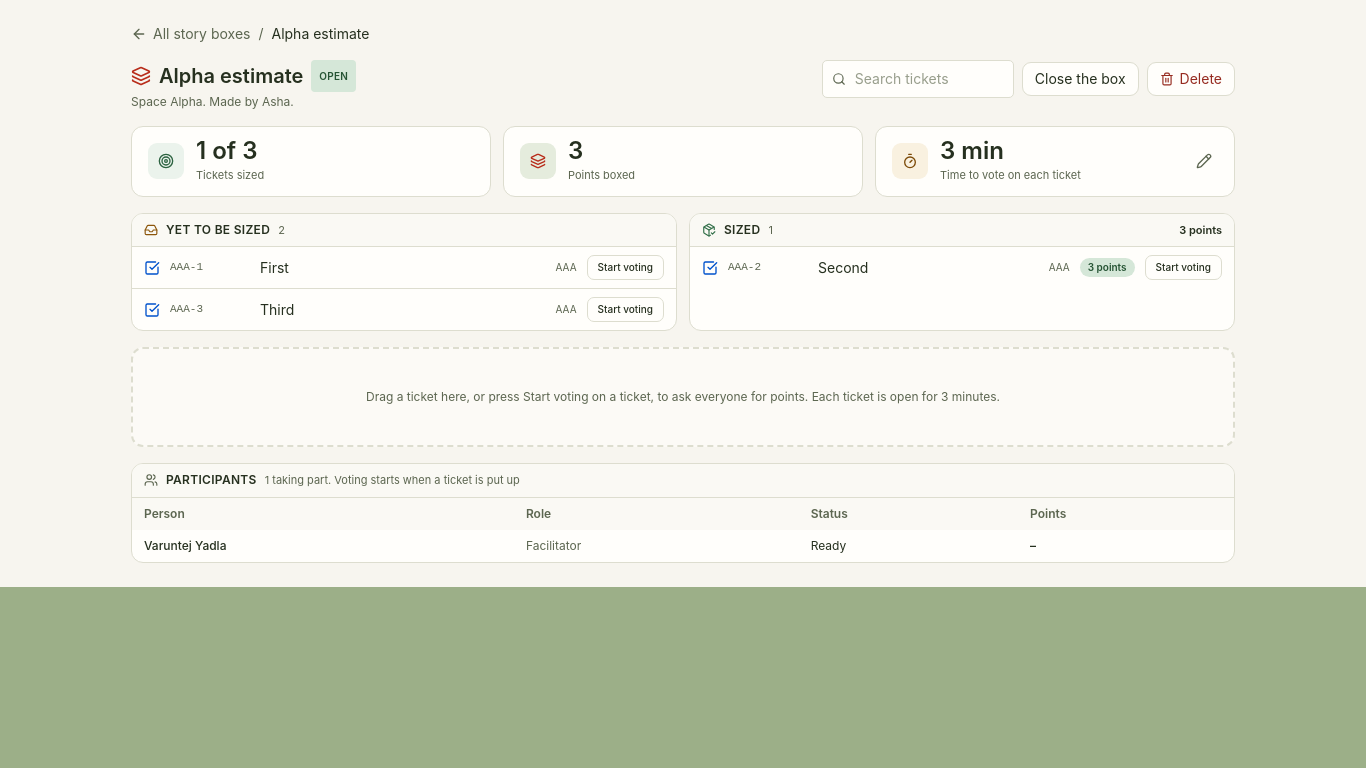
the time to vote › is shown, and a small pencil changes it for the next tickets
Step 1. Click the button named "Change the time to vote" → [1204, 161], box x1=1190 y1=147 x2=1218 y2=175
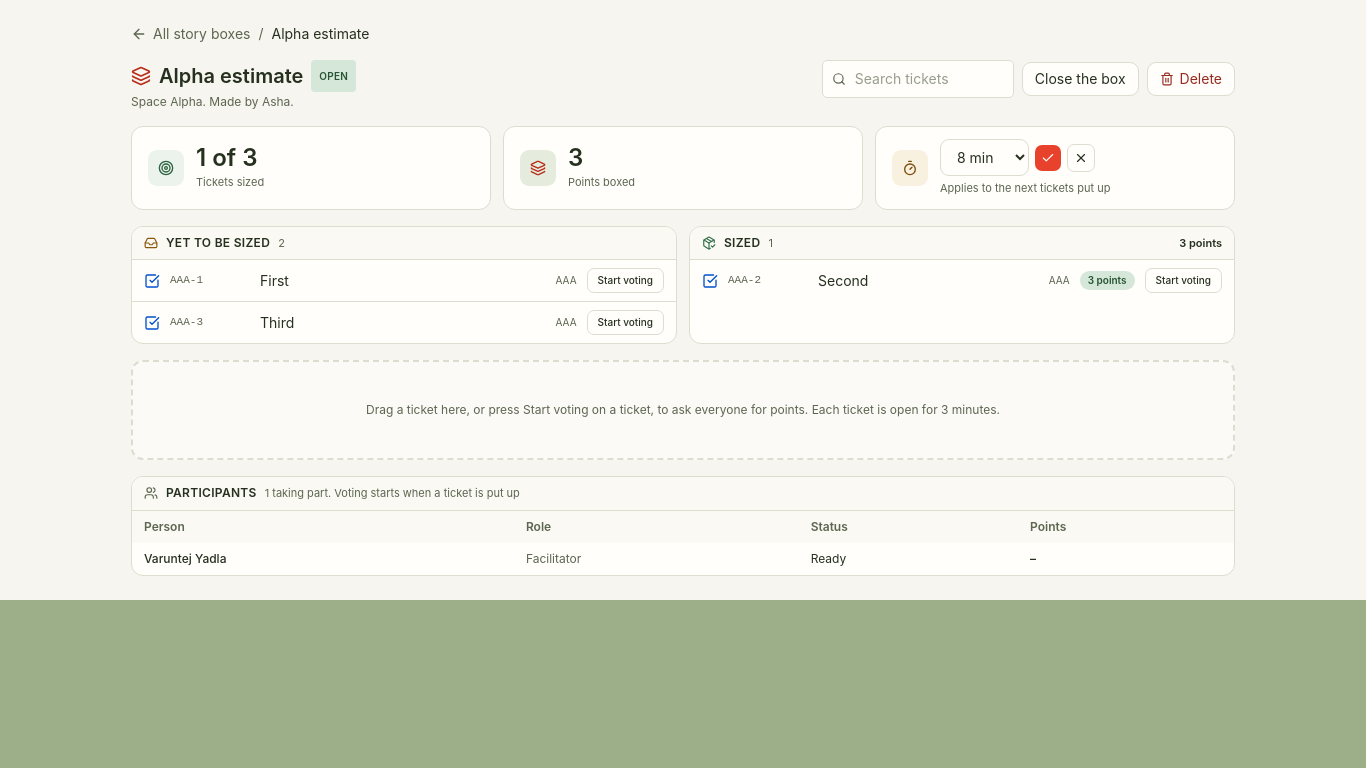
Step 2. Select "8 min" in the dropdown named "Time to vote on each ticket" → [984, 158], box x1=940 y1=139 x2=1029 y2=176
Step 3. Click the button named "Save the time" → [1048, 158], box x1=1035 y1=144 x2=1061 y2=170
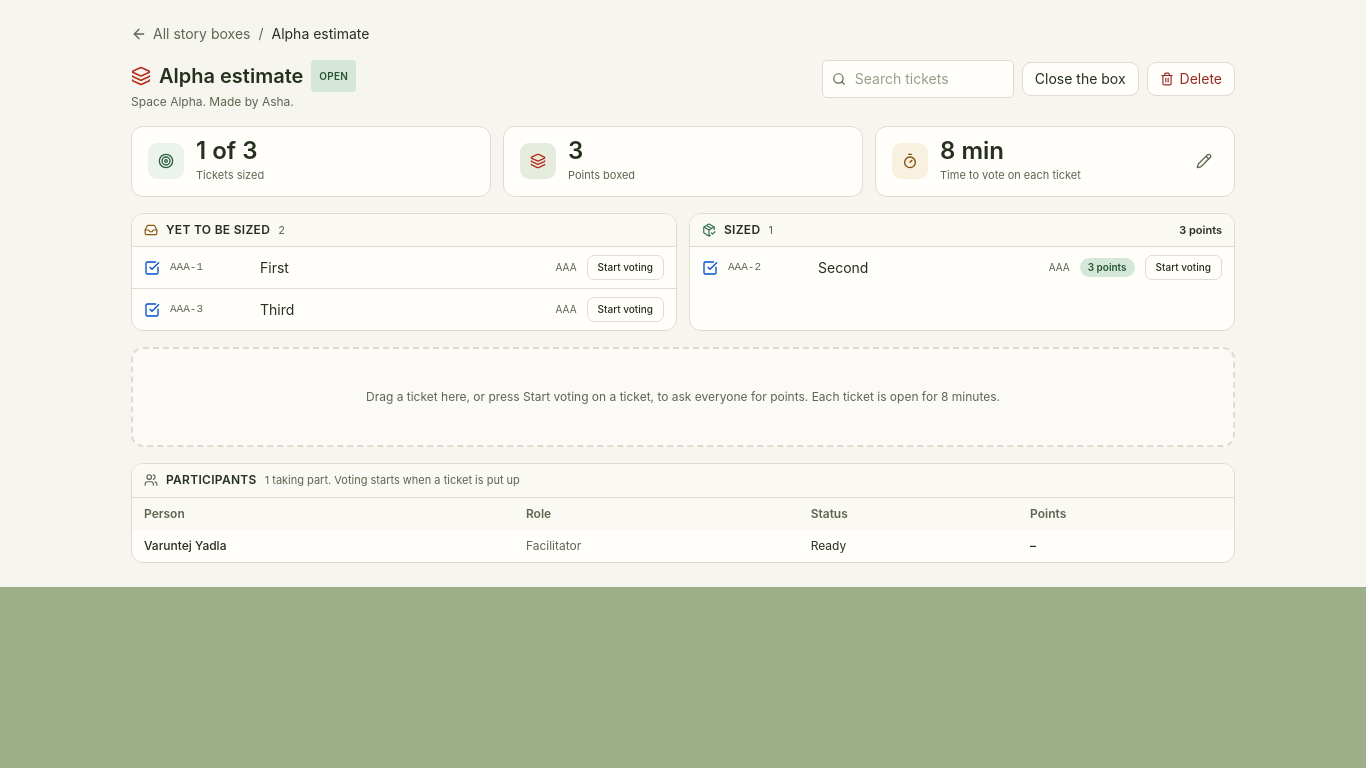
Result: the text "8 min" is shown at x1=940 y1=136 x2=1004 y2=165
Result: the text named "Estimation window" shows "8 minutes" at x1=366 y1=389 x2=1000 y2=404
Step 4. Click the button "Start voting" in the row of "AAA-1" → [625, 268], box x1=587 y1=255 x2=664 y2=280
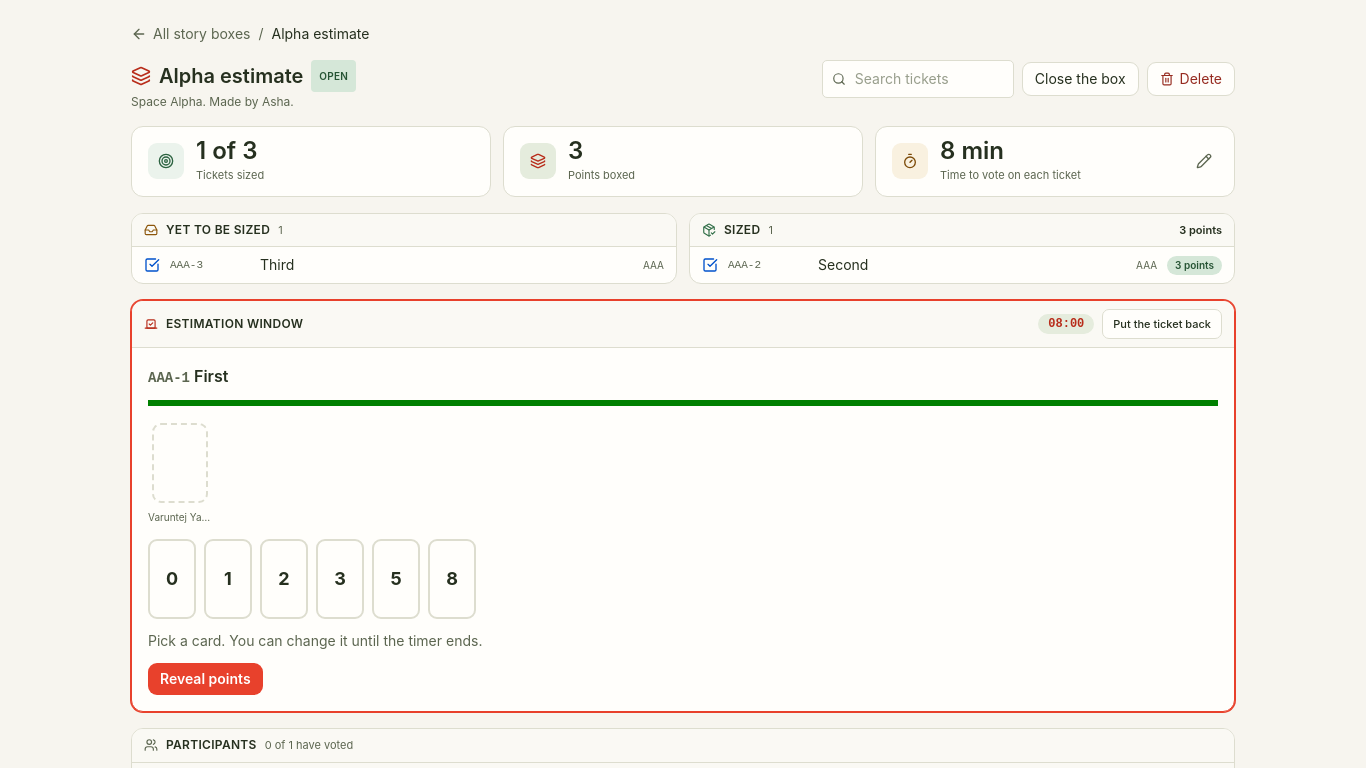
Result: the text "08:00" is shown at x1=1038 y1=314 x2=1094 y2=334
